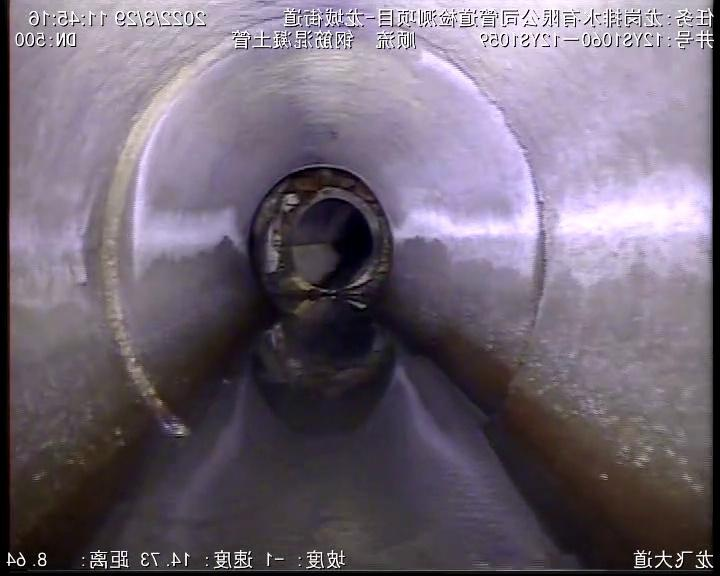CKTJ: (102, 42, 225, 437)
